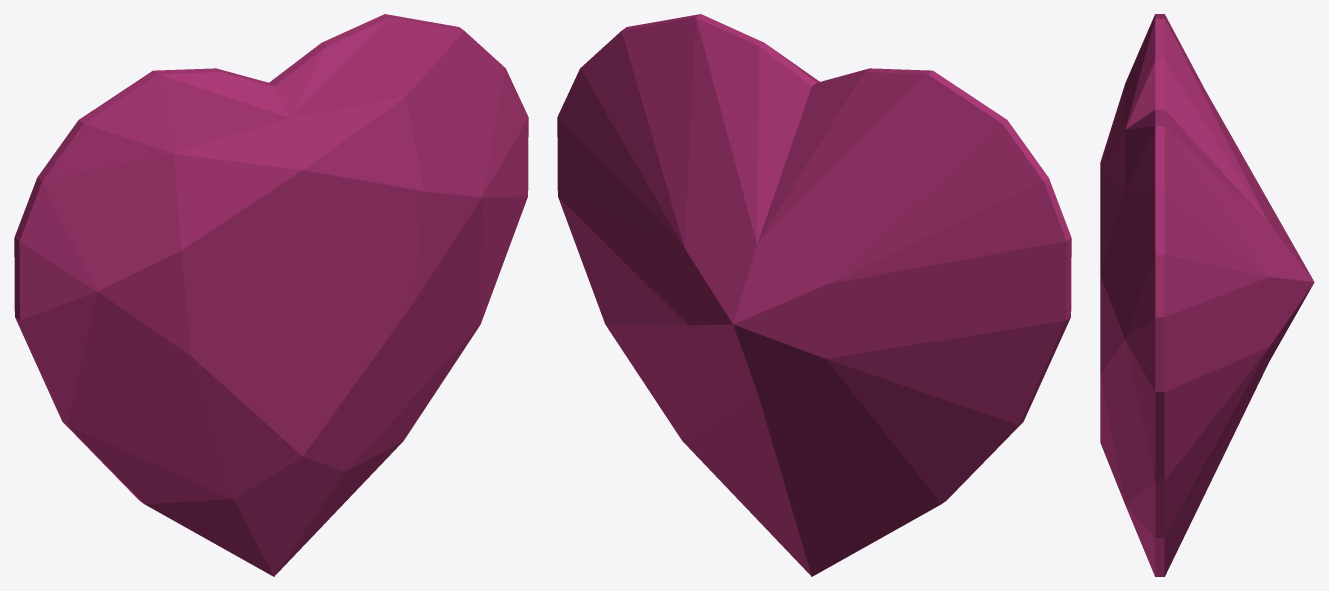
File: harriet.glb
3 renders of one model, left to right at view 1: azimuth 30°, elevation 25°; view 2: azimuth 150°, elevation 25°; view 3: azimuth 270°, elevation 25°, orthographic. The views are drawn at different scales.
Parts seen in each view (by area): view 1: Harriet; view 2: Harriet; view 3: Harriet.
Part boxes in pixels (x1,y1,x2,y2): Harriet: (14, 14, 528, 576); Harriet: (557, 14, 1071, 576); Harriet: (1100, 14, 1314, 576).
Bounding box in the file's own units: 2.24 × 2.24 × 0.8605.
